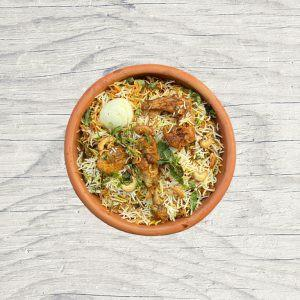Biryani: (78, 76, 221, 225)
